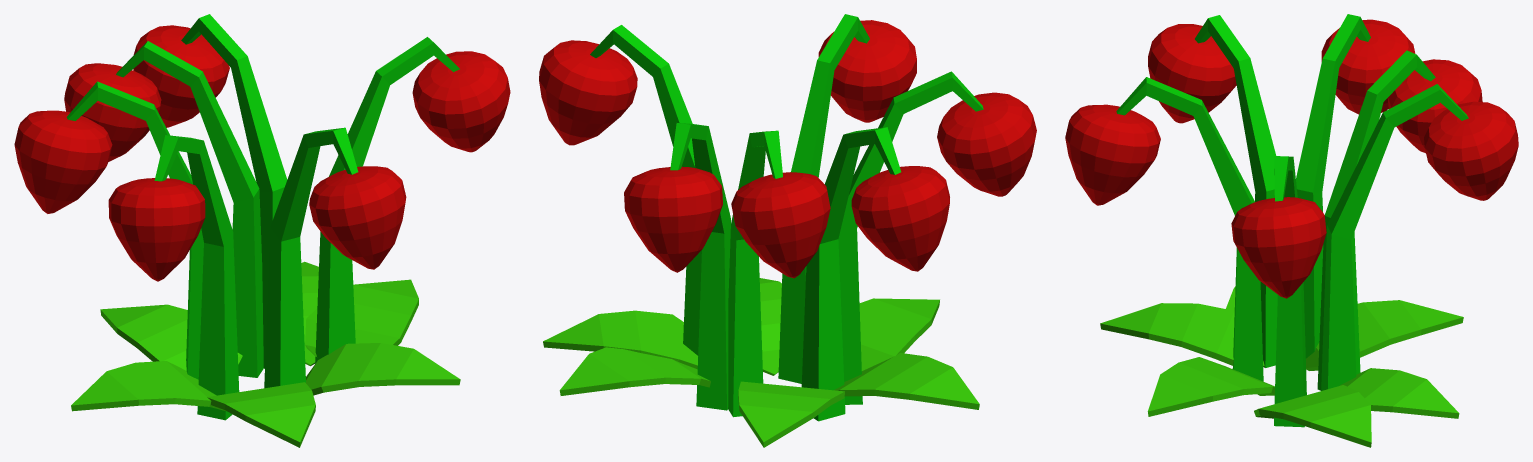
The model's file is Strawberry.obj.
3 renders of one model, left to right at view 1: azimuth 30°, elevation 25°; view 2: azimuth 150°, elevation 25°; view 3: azimuth 270°, elevation 25°, orthographic. The views are drawn at different scales.
Parts seen in each view (by area): view 1: Cube.005, Cube.004, Cube.003, Cube.001, Cube, Cube.002, Plane.003, Plane.005, Plane.002, Plane.004, Plane, Plane.001; view 2: Cube, Cube.002, Cube.001, Cube.004, Cube.005, Cube.003, Plane.002, Plane.005, Plane.001, Plane, Plane.004, Plane.003; view 3: Cube.002, Cube.005, Cube.003, Cube.004, Cube, Cube.001, Plane.004, Plane.003, Plane.002, Plane, Plane.001.
Part boxes in pixels (<box>): Cube.005: <box>264,127,406,388</box>; Cube.004: <box>108,135,239,420</box>; Cube.003: <box>315,37,510,363</box>; Cube.001: <box>64,41,263,377</box>; Cube: <box>14,81,203,379</box>; Cube.002: <box>133,14,287,368</box>; Plane.003: <box>306,343,460,395</box>; Plane.005: <box>71,361,226,411</box>; Plane.002: <box>305,279,418,356</box>; Plane.004: <box>207,382,315,447</box>; Plane: <box>100,304,242,370</box>; Plane.001: <box>301,261,318,366</box>; Cube: <box>801,127,949,421</box>; Cube.002: <box>624,123,730,410</box>; Cube.001: <box>728,130,830,417</box>; Cube.004: <box>838,71,1036,404</box>; Cube.005: <box>778,14,916,383</box>; Cube.003: <box>539,25,701,355</box>; Plane.002: <box>543,310,697,369</box>; Plane.005: <box>834,353,979,409</box>; Plane.001: <box>559,347,710,395</box>; Plane: <box>738,381,844,447</box>; Plane.004: <box>859,298,939,370</box>; Plane.003: <box>759,278,781,375</box>; Cube.002: <box>1321,84,1518,390</box>; Cube.005: <box>1065,77,1263,381</box>; Cube.003: <box>1231,156,1326,427</box>; Cube.004: <box>1148,15,1277,367</box>; Cube: <box>1296,14,1415,358</box>; Cube.001: <box>1317,50,1482,390</box>; Plane.004: <box>1100,303,1264,366</box>; Plane.003: <box>1147,357,1274,416</box>; Plane.002: <box>1254,385,1371,447</box>; Plane: <box>1306,300,1463,370</box>; Plane.001: <box>1339,368,1459,418</box>.
Bounding box in the file's own units: 15.81 × 10.89 × 14.56.
